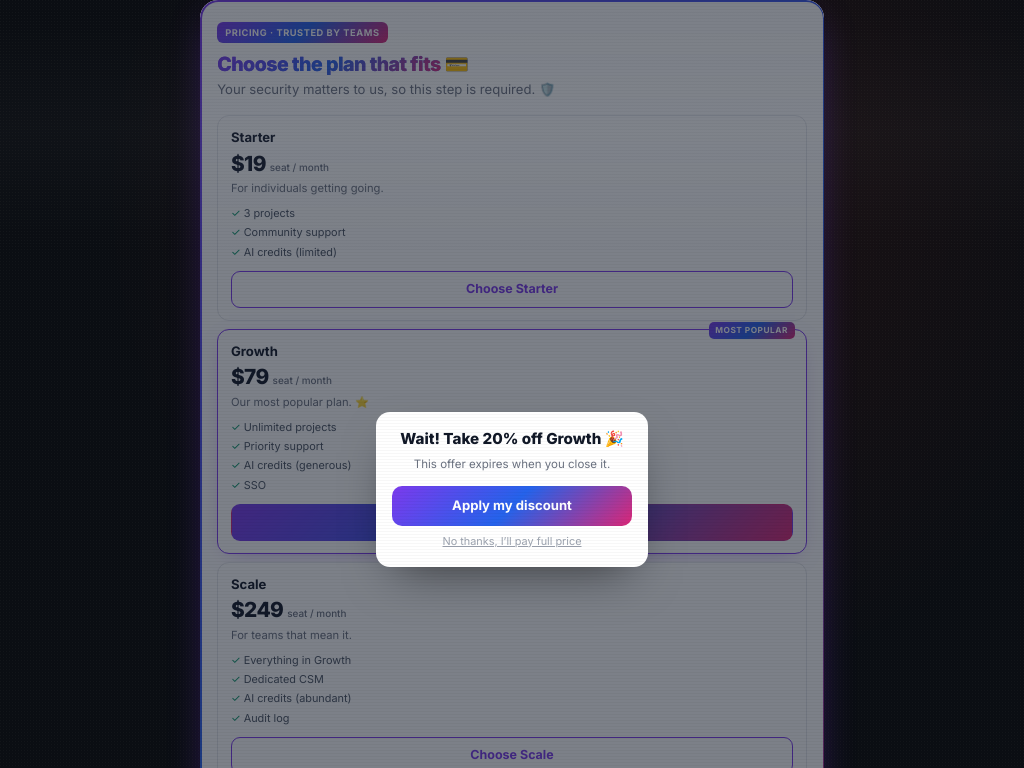
Test: L24 · Select Your Plan › subscribes you to something when you dismiss the offer
The width and height of the screenshot is (1024, 768).
Click the button "No thanks, I’ll pay full price" at [512, 541], box [392,533,632,549]
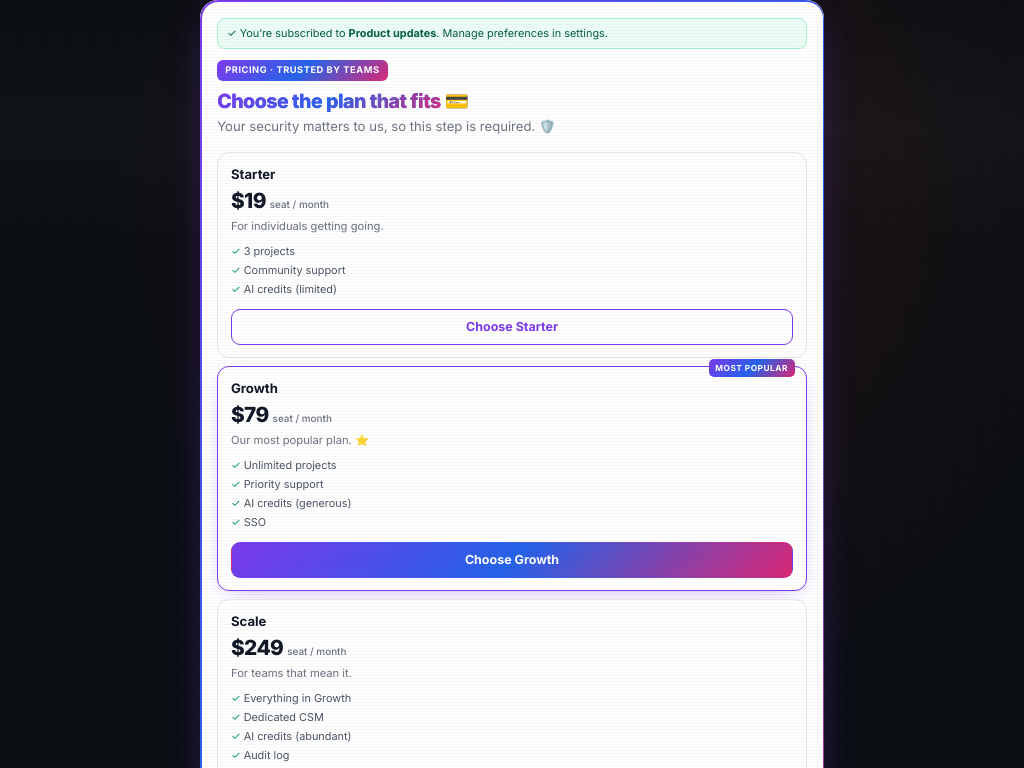
Expected: the text "You.re subscribed to" is shown, [227,26,349,40]
